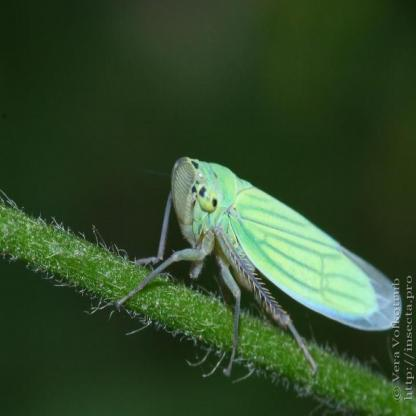Green-Leafhopper: (138, 154, 401, 370)
